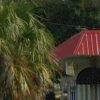Palm tree: (2, 2, 54, 99)
